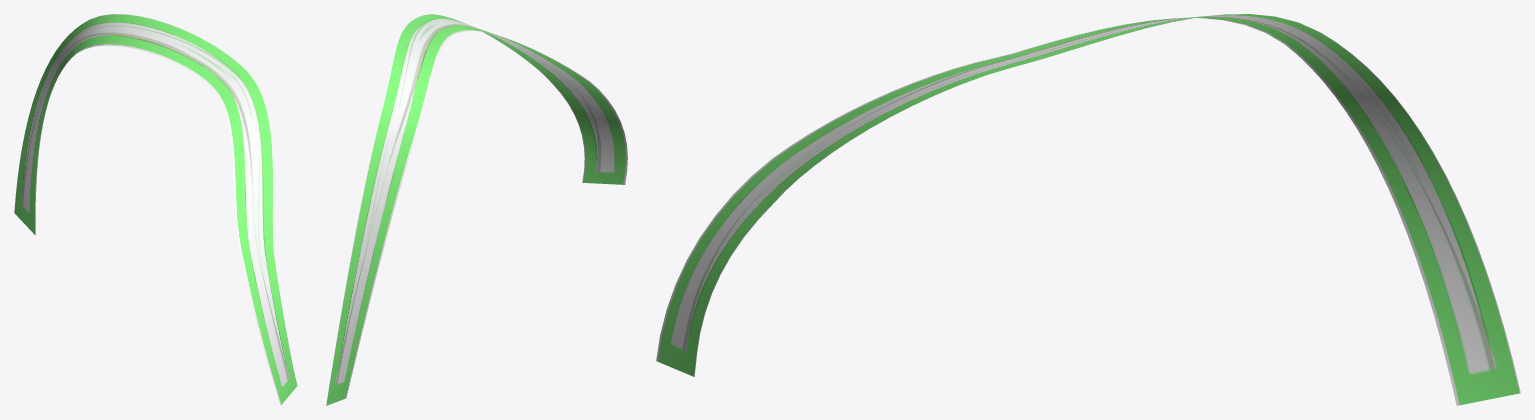
Rendered from piaodai_2.FBX.
The picture shows the model from 3 angles, left to right: view 1: azimuth 30°, elevation 25°; view 2: azimuth 150°, elevation 25°; view 3: azimuth 270°, elevation 25°; orthographic projection. The views are drawn at different scales.
Parts seen in each view (by area): view 1: Plane002; view 2: Plane002; view 3: Plane002.
Boxes of the visible parts, <box> form: Plane002: <box>14,14,297,405</box>; Plane002: <box>326,14,627,405</box>; Plane002: <box>656,14,1520,405</box>.
Bounding box in the file's own units: 42.89 × 119 × 225.
